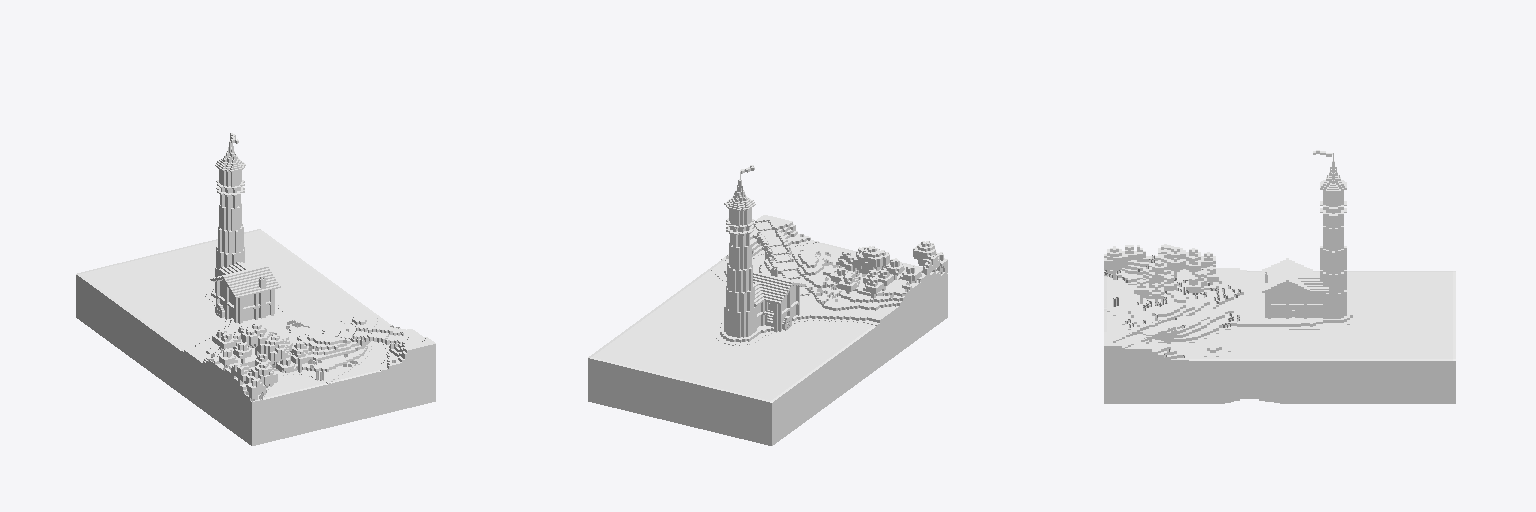
The model's file is Eaglepoint Lighthouse.obj.
3 renders of one model, left to right at view 1: azimuth 30°, elevation 25°; view 2: azimuth 150°, elevation 25°; view 3: azimuth 270°, elevation 25°, orthographic.
Parts seen in each view (by area): view 1: Mineopolis__639_47_89_to_708_144_204; view 2: Mineopolis__639_47_89_to_708_144_204; view 3: Mineopolis__639_47_89_to_708_144_204.
Boxes of the visible parts, <box> form: Mineopolis__639_47_89_to_708_144_204: <box>76,133,435,445</box>; Mineopolis__639_47_89_to_708_144_204: <box>588,165,947,445</box>; Mineopolis__639_47_89_to_708_144_204: <box>1104,150,1455,403</box>.
Bounding box in the file's own units: 70.18 × 75 × 116.